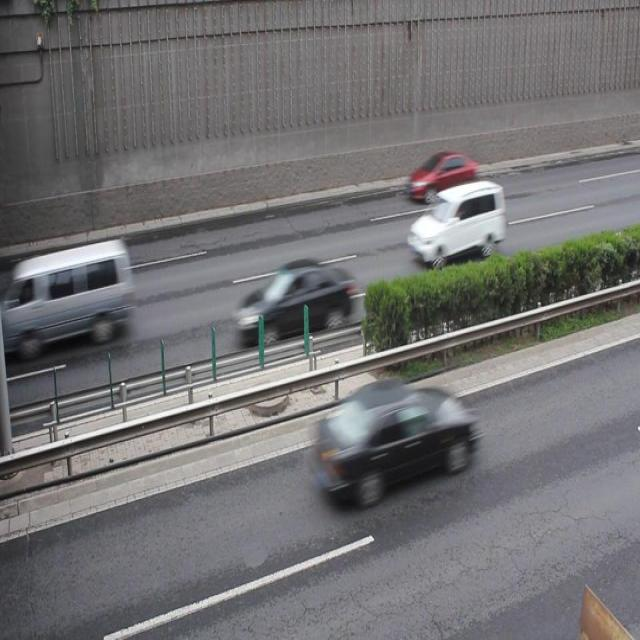car: (312, 375, 473, 506), (232, 256, 354, 346), (405, 178, 504, 268), (407, 150, 477, 207)
truck: (16, 238, 133, 352)
